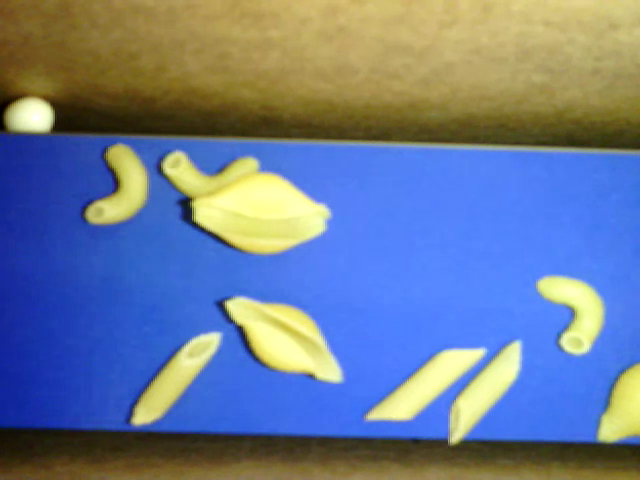elbow: (536, 275, 605, 356), (84, 143, 150, 225), (159, 148, 262, 199)
penne: (364, 346, 486, 421), (131, 330, 220, 426), (449, 340, 518, 447)
shell: (190, 173, 329, 258), (224, 294, 343, 384), (597, 362, 639, 443)
